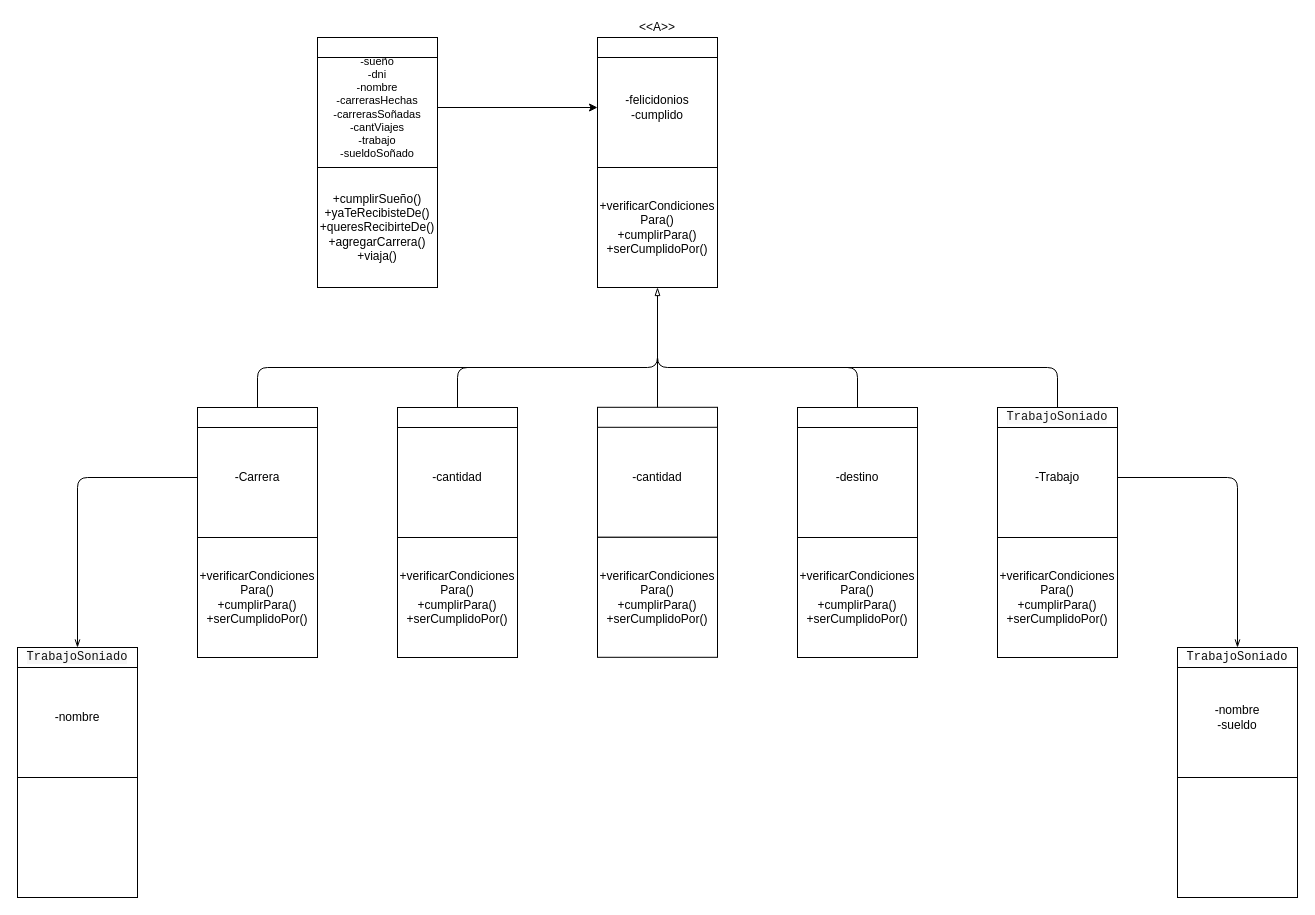
The diagram is 1315 pixels wide and 915 high, and some of its shapes have lost their labels. The box of each missing label's shape, as (x1, y1, x2, y2) in pixels:
Adoptar: (596, 406, 718, 427)
Hijos: (396, 406, 518, 428)
Persona: (316, 36, 438, 58)
Recibirse: (196, 406, 318, 428)
Sueño: (596, 36, 718, 58)
Viajar: (796, 406, 918, 428)
